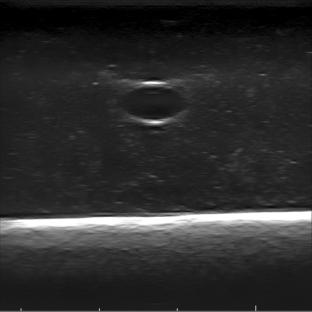vessel: (115, 80, 189, 126)
